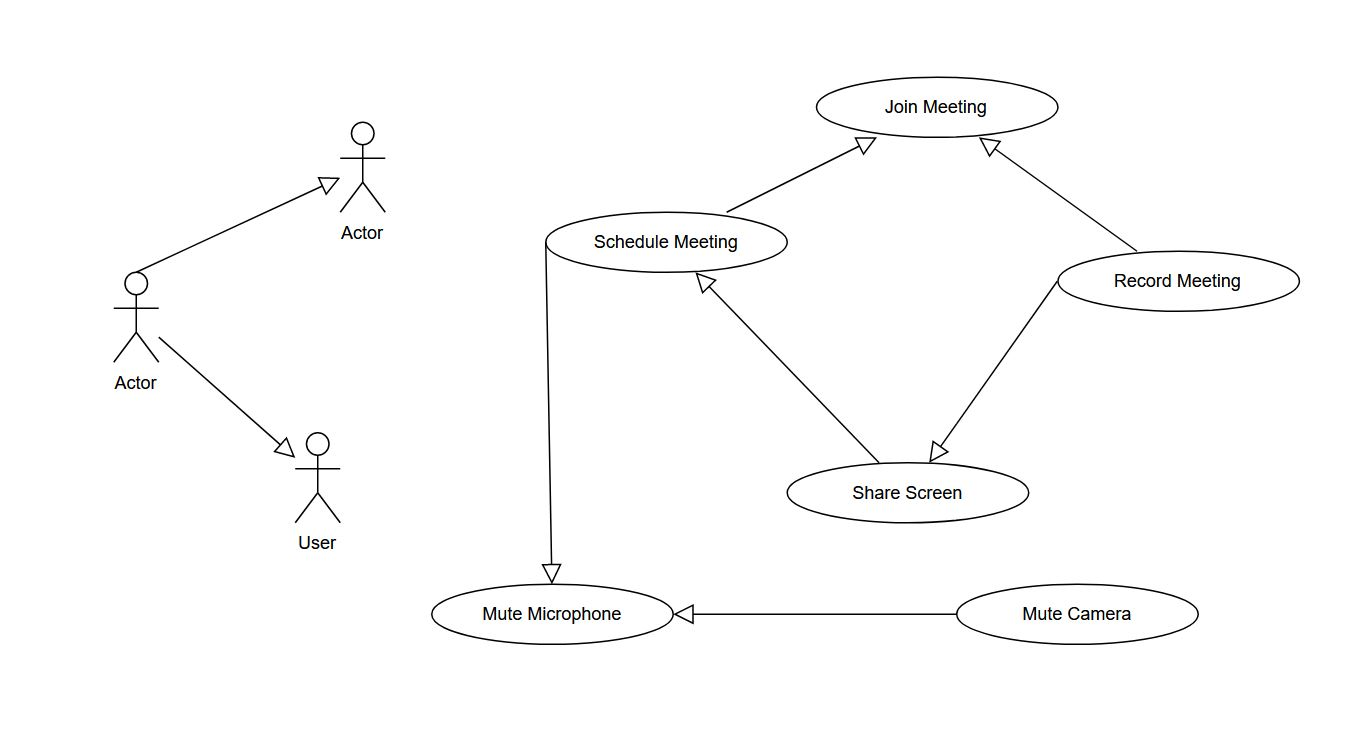actor: (292, 431, 340, 525), (341, 120, 389, 213), (114, 269, 160, 366)
generalization: (695, 271, 877, 461), (931, 282, 1056, 462), (137, 175, 339, 270), (978, 136, 1135, 250), (157, 336, 294, 459), (726, 135, 878, 211), (542, 246, 563, 584), (674, 605, 959, 624)
text: (478, 603, 629, 628), (592, 229, 739, 254), (1104, 267, 1245, 293), (1015, 598, 1135, 628), (844, 479, 966, 507), (881, 92, 993, 122), (295, 530, 339, 553), (112, 372, 160, 393), (339, 224, 385, 242)
use_case: (430, 583, 675, 646), (786, 462, 1029, 525), (956, 583, 1200, 644), (544, 212, 787, 273), (816, 76, 1058, 137), (1058, 253, 1301, 312)
